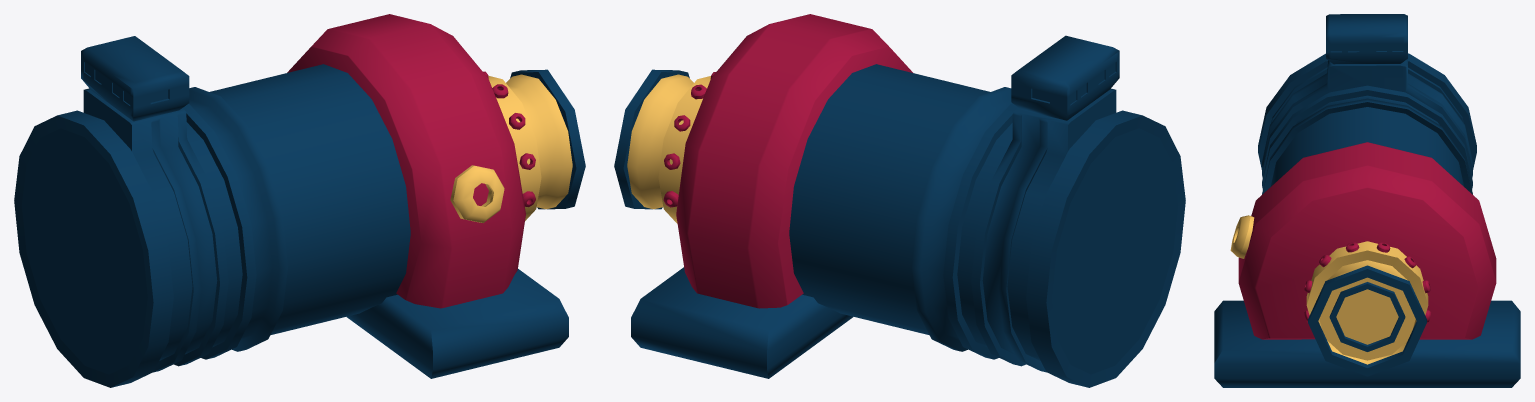
The model's file is compresor01.fbx.
3 renders of one model, left to right at view 1: azimuth 30°, elevation 25°; view 2: azimuth 150°, elevation 25°; view 3: azimuth 270°, elevation 25°, orthographic. The views are drawn at different scales.
Parts seen in each view (by area): view 1: Cilindro, Cilindro_2, Cubo, Cilindro_1, Tubo_1, Tubo; view 2: Cilindro, Cilindro_2, Cubo, Cilindro_1, Tubo; view 3: Cilindro_2, Cilindro, Cubo, Cilindro_1, Tubo, Tubo_10, Tubo_1.
Boxes of the visible parts, left/top/right/bottom form: Cilindro: left=14, top=36, right=410, bottom=387; Cilindro_2: left=287, top=14, right=525, bottom=308; Cubo: left=346, top=269, right=568, bottom=378; Cilindro_1: left=488, top=74, right=572, bottom=220; Tubo_1: left=450, top=165, right=504, bottom=223; Tubo: left=510, top=69, right=585, bottom=209; Cilindro: left=789, top=35, right=1185, bottom=387; Cilindro_2: left=676, top=14, right=912, bottom=308; Cubo: left=631, top=267, right=853, bottom=378; Cilindro_1: left=627, top=74, right=710, bottom=223; Tubo: left=614, top=69, right=689, bottom=209; Cilindro_2: left=1238, top=142, right=1496, bottom=339; Cilindro: left=1258, top=14, right=1476, bottom=194; Cubo: left=1214, top=300, right=1520, bottom=387; Cilindro_1: left=1306, top=241, right=1428, bottom=364; Tubo: left=1308, top=265, right=1426, bottom=376; Tubo_10: left=1329, top=282, right=1405, bottom=351; Tubo_1: left=1230, top=215, right=1254, bottom=258.
Bounding box in the file's own units: 213 × 134 × 155.
